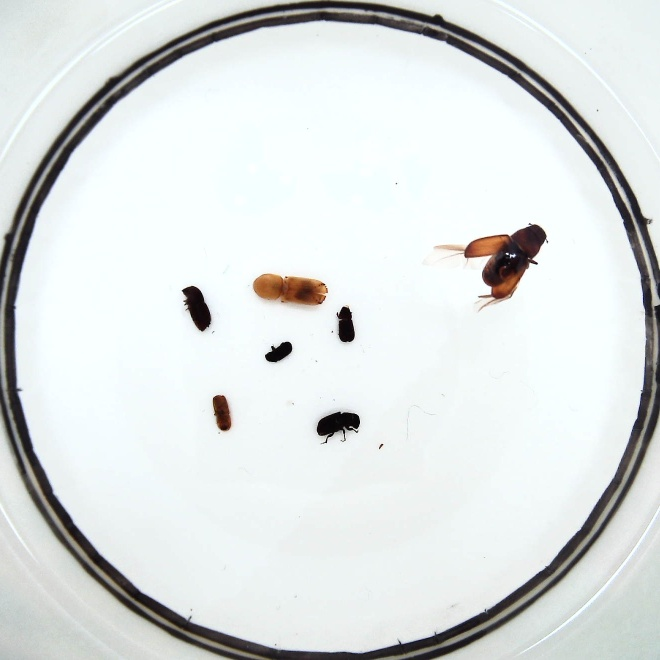acuminatus: (212, 395, 231, 433)
armandi: (315, 408, 361, 439)
boerner: (251, 269, 328, 306)
coleoptera: (336, 306, 357, 340), (264, 340, 291, 362)
leconte: (458, 225, 546, 300)
linnaeus: (183, 281, 211, 330)
